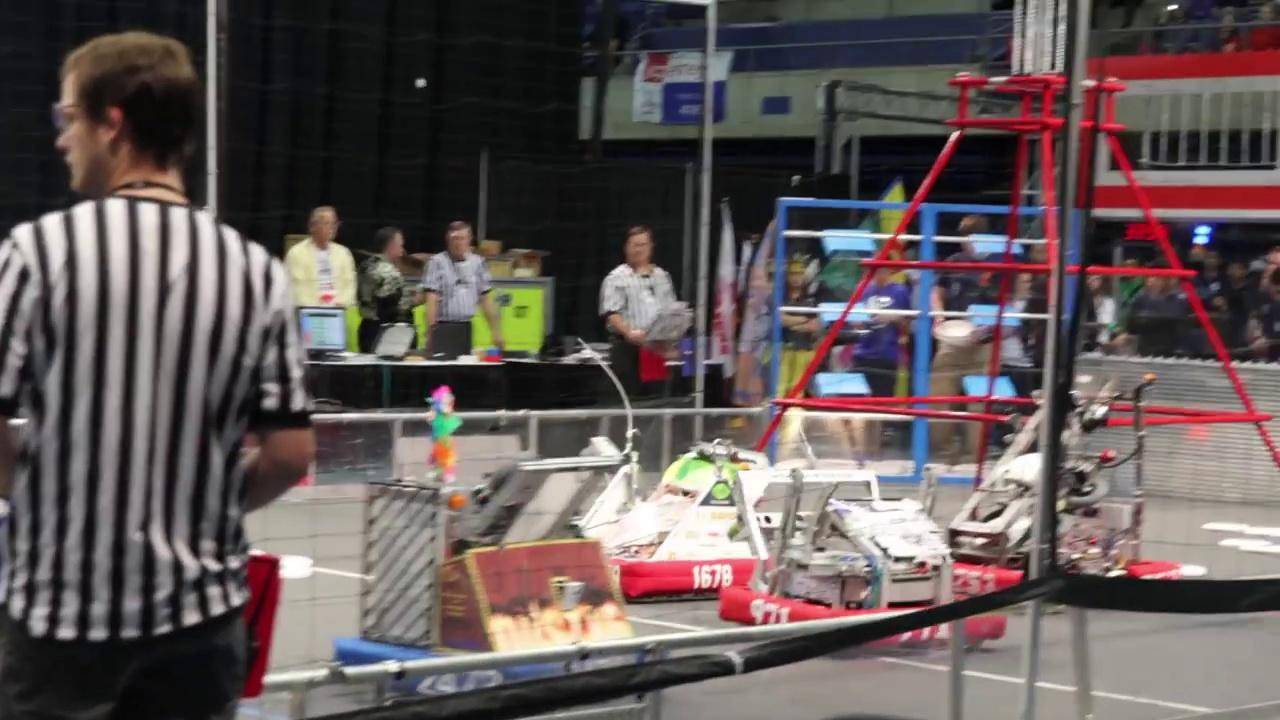robot: (327, 447, 646, 697), (716, 463, 1008, 651), (952, 380, 1179, 600), (616, 433, 761, 604)
